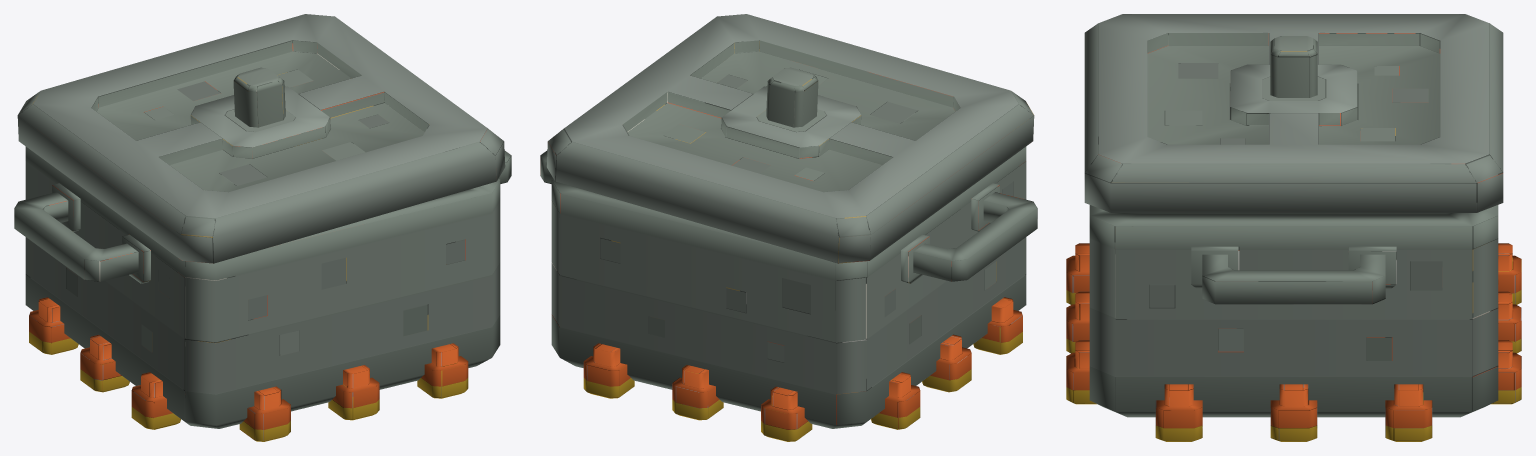
The model's file is BC_cauldron01_cook.fbx.
The picture shows the model from 3 angles, left to right: view 1: azimuth 30°, elevation 25°; view 2: azimuth 150°, elevation 25°; view 3: azimuth 270°, elevation 25°; orthographic projection. The views are drawn at different scales.
Visible parts, largest first — view 1: model01, model01 1, fire; view 2: model01, model01 1, fire; view 3: model01 1, model01, fire.
Boxes of the visible parts, left/top/right/bottom form: model01: left=14, top=146, right=511, bottom=428; model01 1: left=17, top=14, right=505, bottom=263; fire: left=29, top=297, right=468, bottom=441; model01: left=540, top=146, right=1037, bottom=428; model01 1: left=546, top=14, right=1034, bottom=263; fire: left=583, top=297, right=1022, bottom=441; model01 1: left=1084, top=14, right=1503, bottom=212; model01: left=1089, top=205, right=1498, bottom=417; fire: left=1066, top=243, right=1521, bottom=441.
Size of the model in its own units: 5.41 by 3.27 by 4.46.
Materials: 1 (1 with a texture image).
